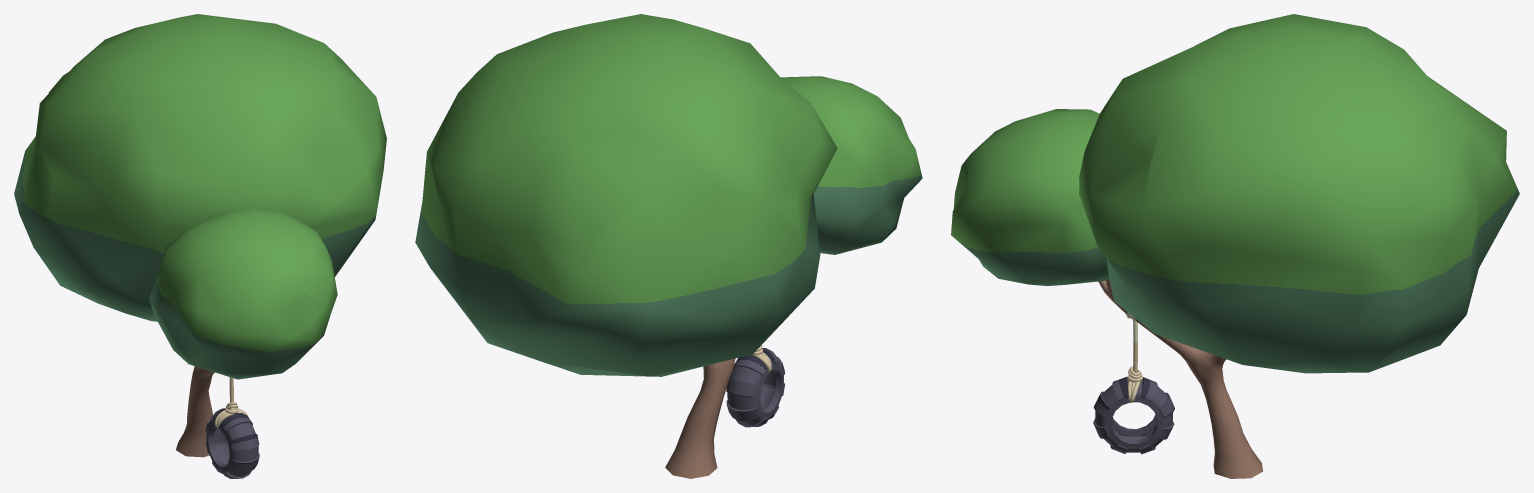
File: arbolPadre.fbx
3 views of the same model, side by side, from view 1: azimuth 30°, elevation 25°; view 2: azimuth 150°, elevation 25°; view 3: azimuth 270°, elevation 25° (orthographic). The views are drawn at different scales.
Visible parts, largest first — view 1: arbolPadre, rueda, soga; view 2: arbolPadre, rueda; view 3: arbolPadre, rueda, soga.
Boxes of the visible parts, x1,y1,x2,y2 form: arbolPadre: [14, 14, 386, 457]; rueda: [205, 408, 259, 478]; soga: [214, 377, 248, 427]; arbolPadre: [415, 14, 922, 478]; rueda: [726, 348, 785, 427]; arbolPadre: [951, 14, 1519, 478]; rueda: [1093, 377, 1174, 454]; soga: [1125, 312, 1143, 402].
Size of the model in its own units: 1354 by 1639 by 1909.
